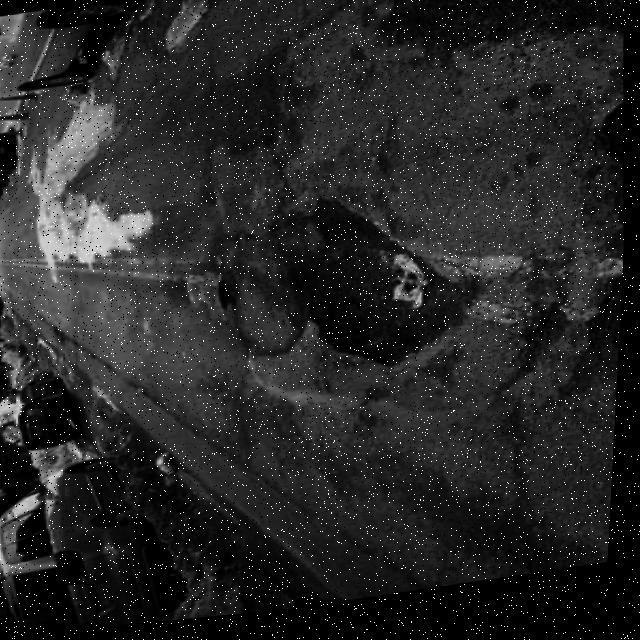pothole: (167, 200, 496, 422)
